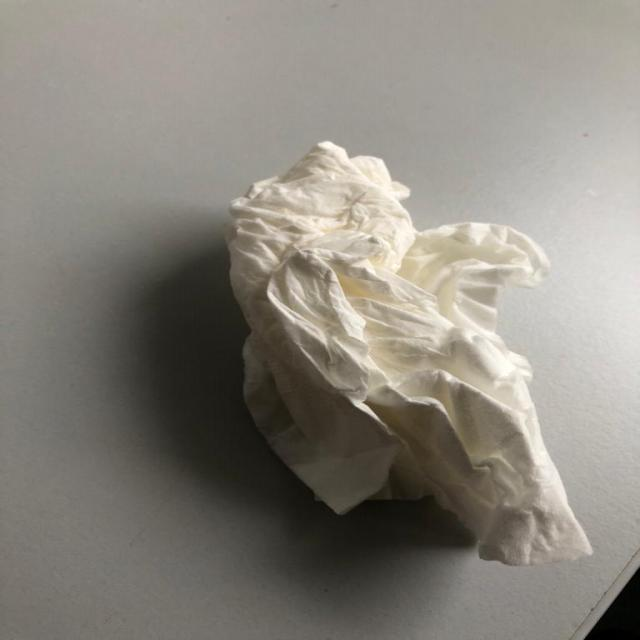organic waste: (224, 133, 600, 567)
